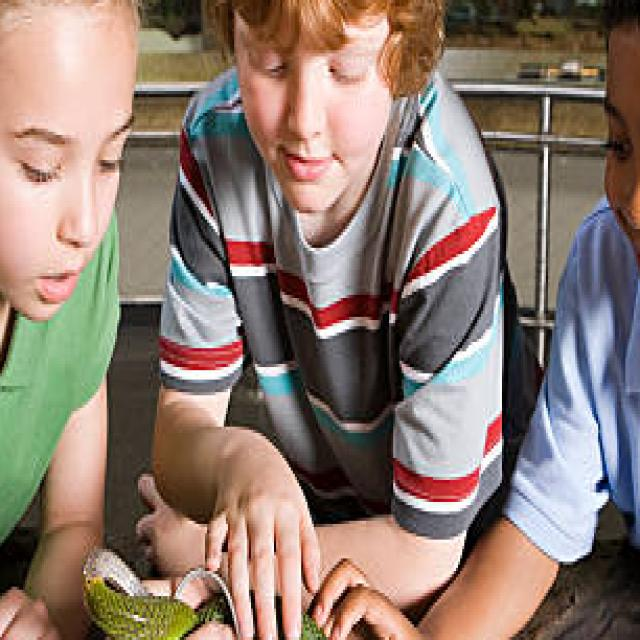Snake: (71, 542, 428, 640)
